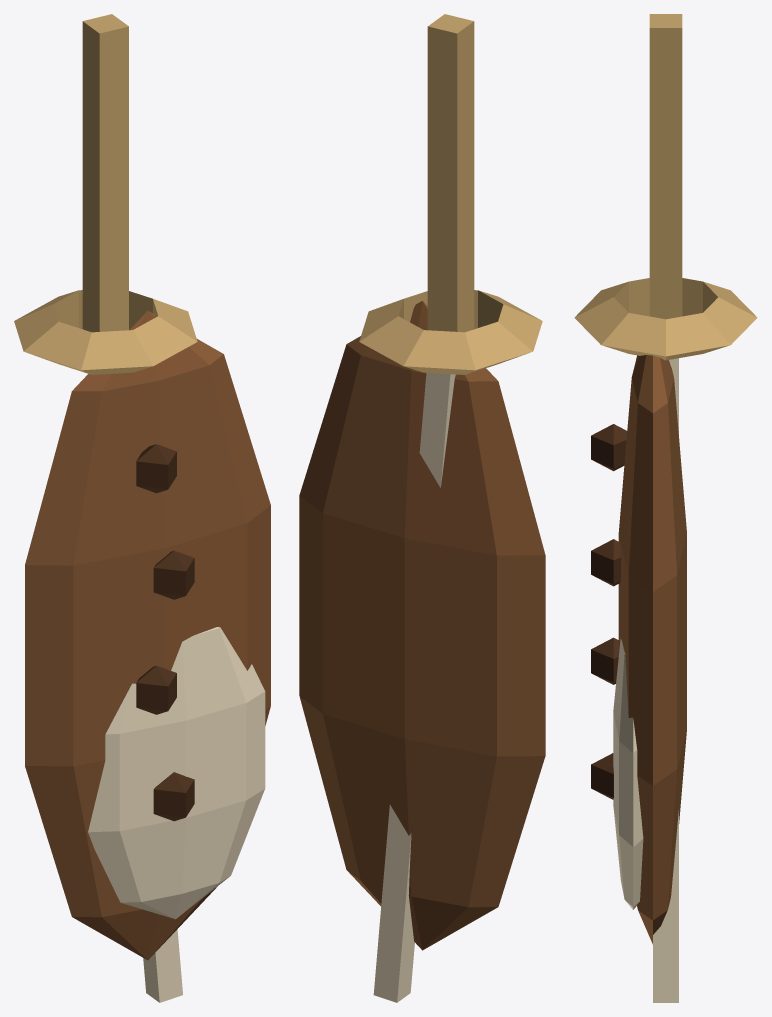
The model's file is gear_charm_owlfeather_v01.glb.
3 renders of one model, left to right at view 1: azimuth 30°, elevation 25°; view 2: azimuth 150°, elevation 25°; view 3: azimuth 270°, elevation 25°, orthographic. The views are drawn at different scales.
Parts seen in each view (by area): view 1: charm_owlfeather; view 2: charm_owlfeather; view 3: charm_owlfeather.
Part boxes in pixels (bbox=[...]): charm_owlfeather: bbox=[14, 14, 270, 1002]; charm_owlfeather: bbox=[299, 14, 545, 1002]; charm_owlfeather: bbox=[574, 14, 757, 1002].
Bounding box in the file's own units: 0.0418 × 0.1602 × 0.028.
